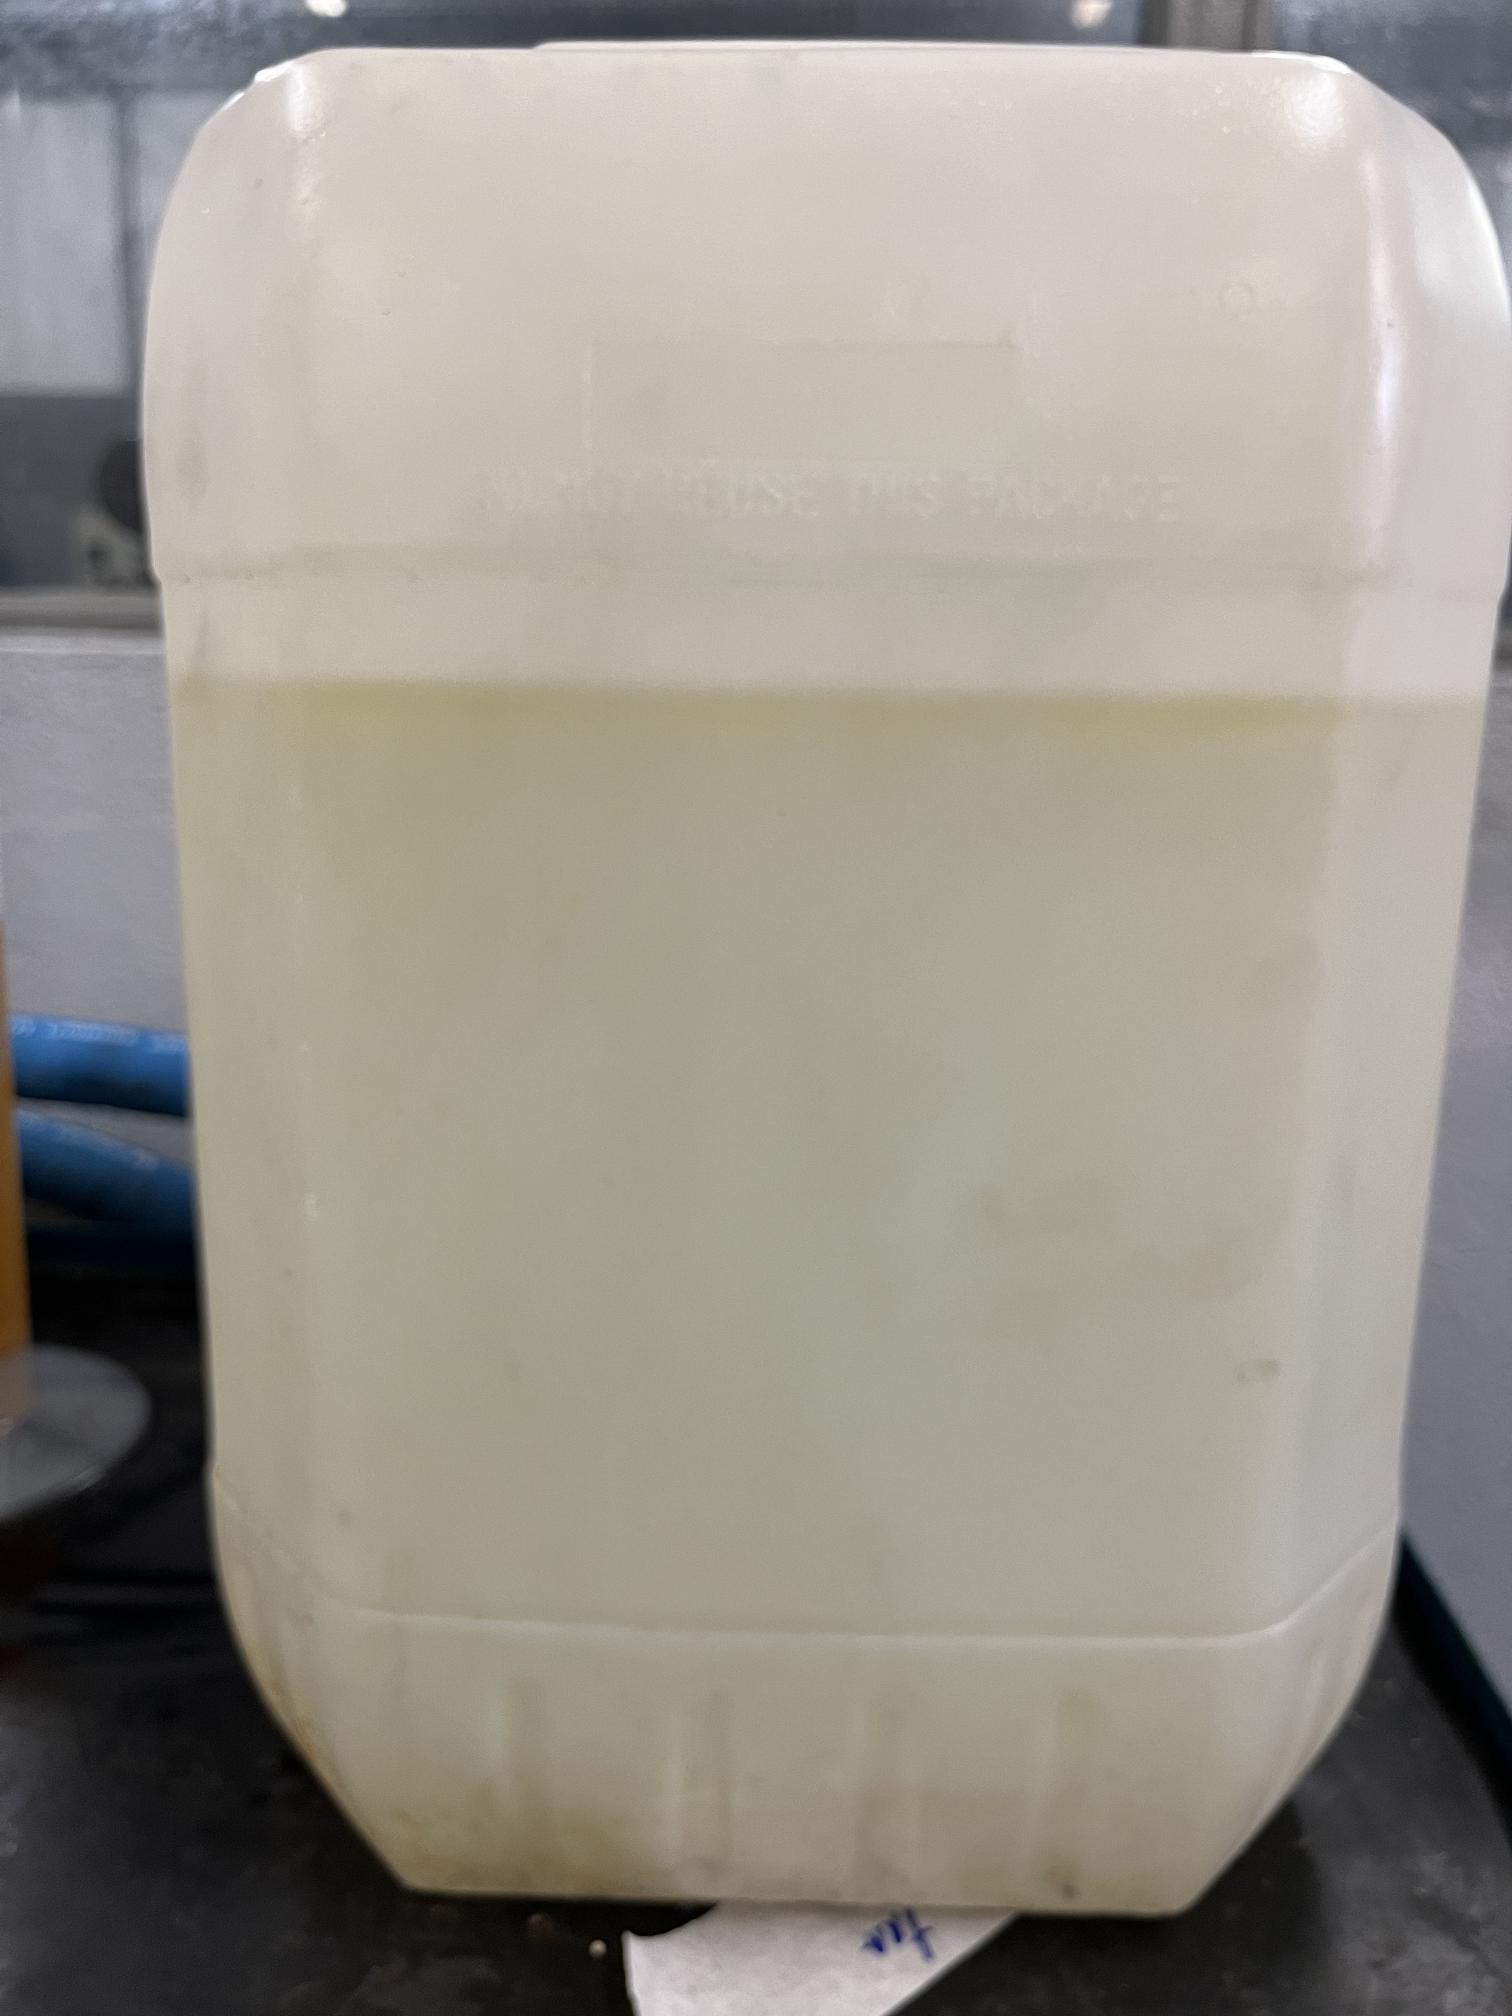Galao: (190, 70, 1425, 1870)
